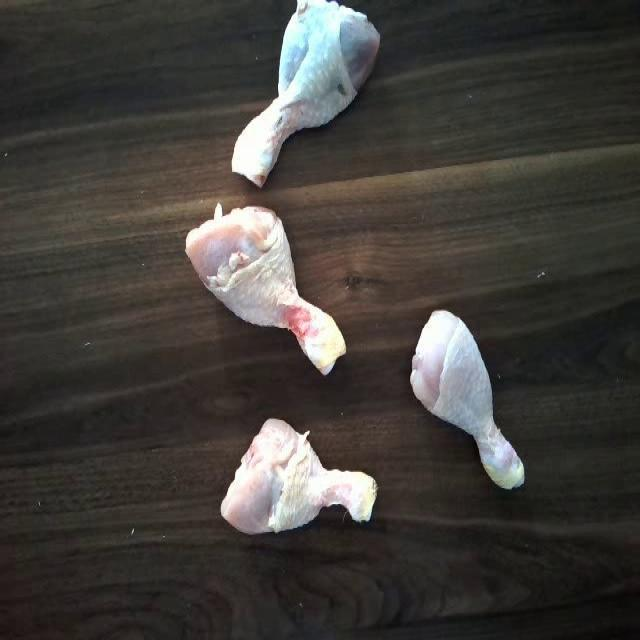leg: (230, 0, 389, 197), (177, 203, 353, 380), (392, 304, 530, 490), (218, 409, 388, 537)
